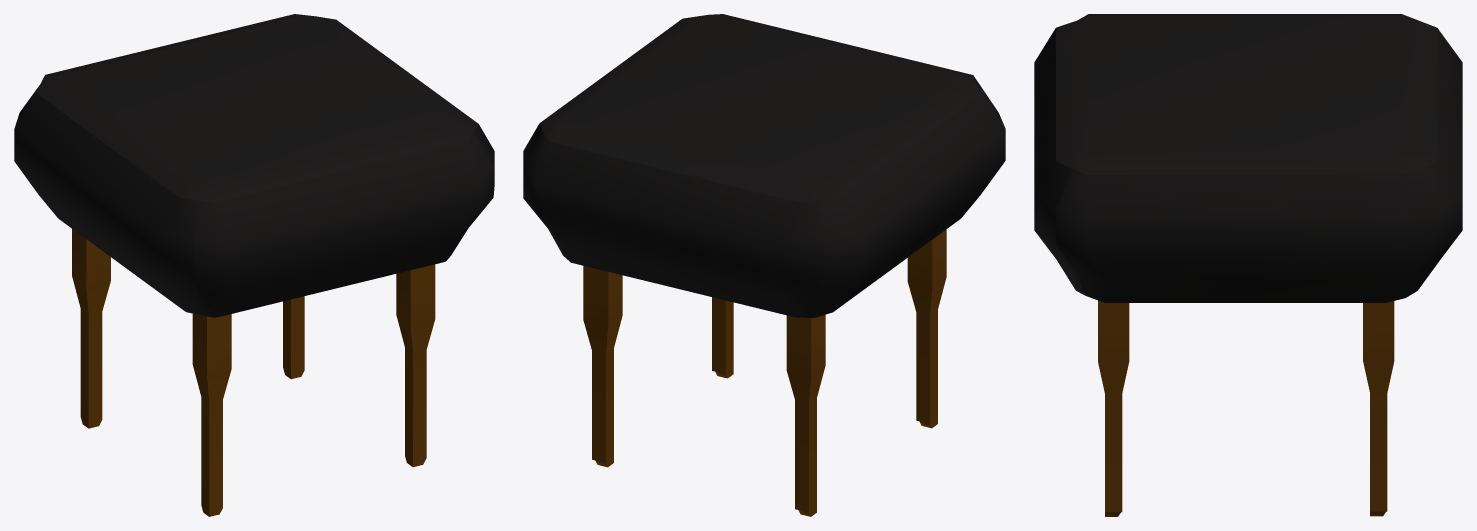
File: stool.fbx
The picture shows the model from 3 angles, left to right: view 1: azimuth 30°, elevation 25°; view 2: azimuth 150°, elevation 25°; view 3: azimuth 270°, elevation 25°; orthographic projection. The views are drawn at different scales.
Parts seen in each view (by area): view 1: Seient_GEO, Pota1_GEO2, Pota1_GEO3, Pota1_GEO1, Pota1_GEO; view 2: Seient_GEO, Pota1_GEO1, Pota1_GEO, Pota1_GEO2, Pota1_GEO3; view 3: Seient_GEO, Pota1_GEO3, Pota1_GEO.
Part boxes in pixels (left/top/right/bottom): Seient_GEO: left=14, top=14, right=494, bottom=317; Pota1_GEO2: left=192, top=313, right=231, bottom=516; Pota1_GEO3: left=396, top=264, right=435, bottom=467; Pota1_GEO1: left=72, top=229, right=110, bottom=428; Pota1_GEO: left=283, top=296, right=304, bottom=379; Seient_GEO: left=523, top=14, right=1005, bottom=317; Pota1_GEO1: left=786, top=314, right=825, bottom=516; Pota1_GEO: left=583, top=266, right=622, bottom=467; Pota1_GEO2: left=907, top=229, right=946, bottom=428; Pota1_GEO3: left=712, top=297, right=733, bottom=378; Seient_GEO: left=1034, top=14, right=1462, bottom=302; Pota1_GEO3: left=1098, top=300, right=1129, bottom=516; Pota1_GEO: left=1363, top=301, right=1394, bottom=516.
Bounding box in the file's own units: 1.13 × 1.1 × 1.12.
